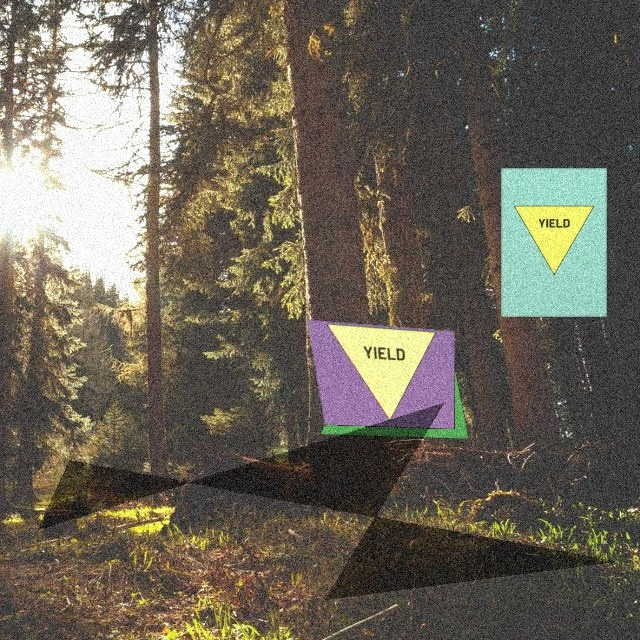YIELD: (326, 324, 438, 424), (354, 343, 436, 419), (514, 206, 594, 275)
